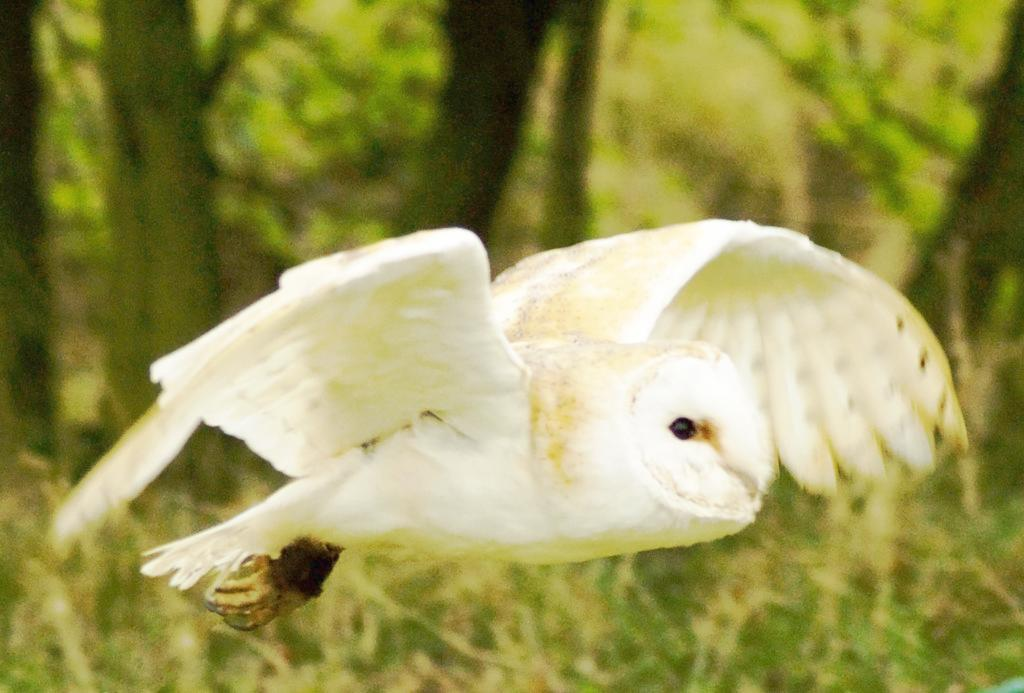Owl: (49, 218, 974, 594)
